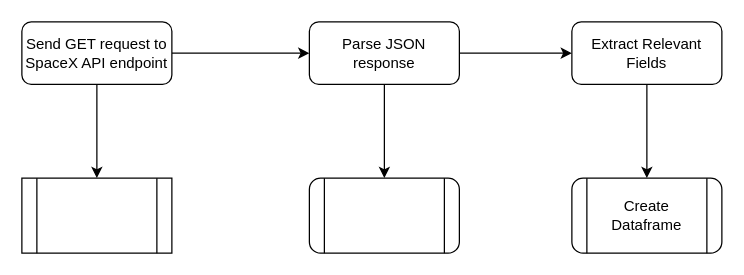
Image size: 744x275. Some labels were removed from this diagram. Here are the shapes that lost their labels. From the top down, the centre of each, then its label:
pixel 96 215: Handle Pagination,
pixel 383 215: Clean and Structure Data
